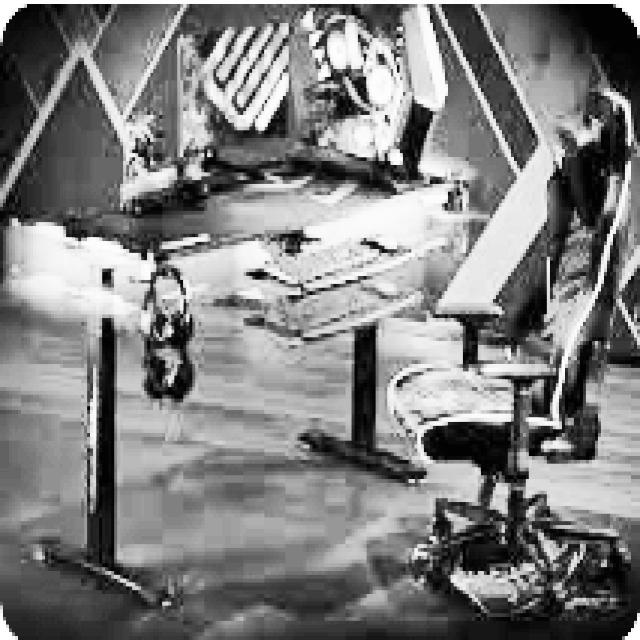book: (385, 84, 637, 590)
table: (56, 156, 421, 572)
